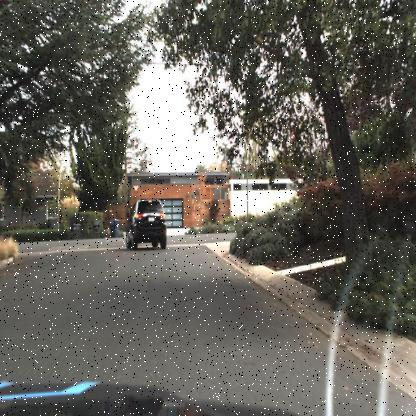car: (119, 187, 167, 260)
